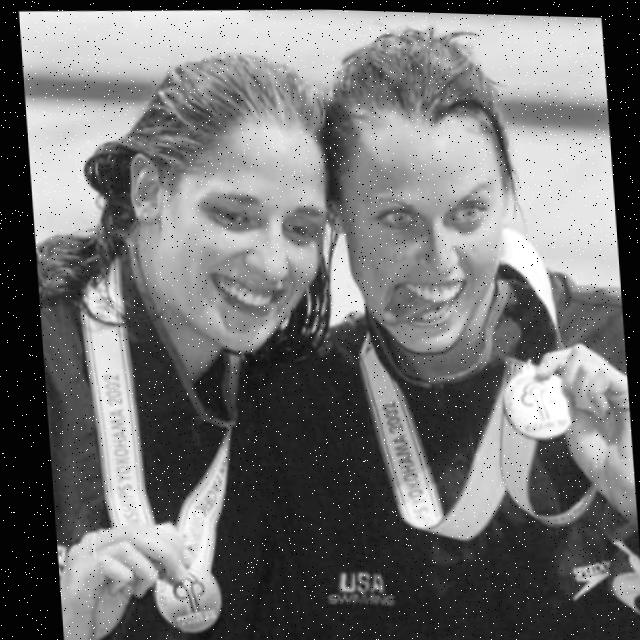face: (123, 102, 340, 375), (324, 110, 527, 370)
